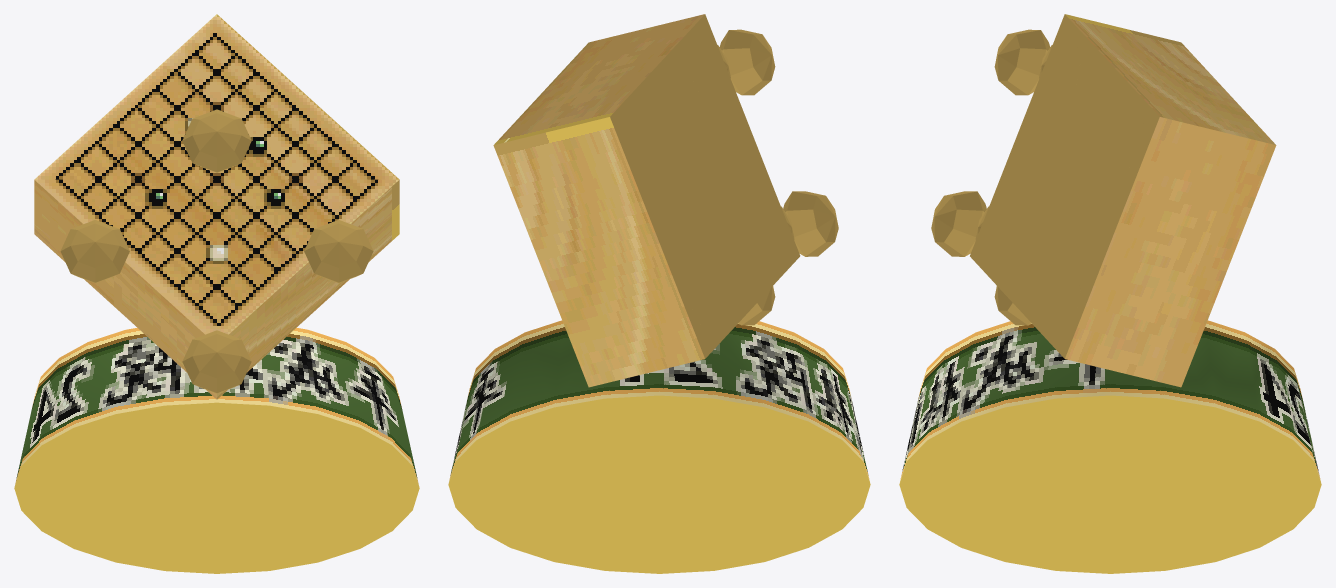
File: ps2_save-icons_internetigoheiseikiin24.glb
3 views of the same model, side by side, from view 1: azimuth 30°, elevation 25°; view 2: azimuth 150°, elevation 25°; view 3: azimuth 270°, elevation 25° (orthographic). The views are drawn at different scales.
Parts seen in each view (by area): view 1: ngo_00.ico; view 2: ngo_00.ico; view 3: ngo_00.ico.
Part boxes in pixels (x1=…): ngo_00.ico: x1=14, y1=14, x2=419, y2=573; ngo_00.ico: x1=448, y1=14, x2=870, y2=573; ngo_00.ico: x1=899, y1=14, x2=1321, y2=573.
Bounding box in the file's own units: 3.91 × 4.69 × 3.91.
Materials: 1 (1 with a texture image).
